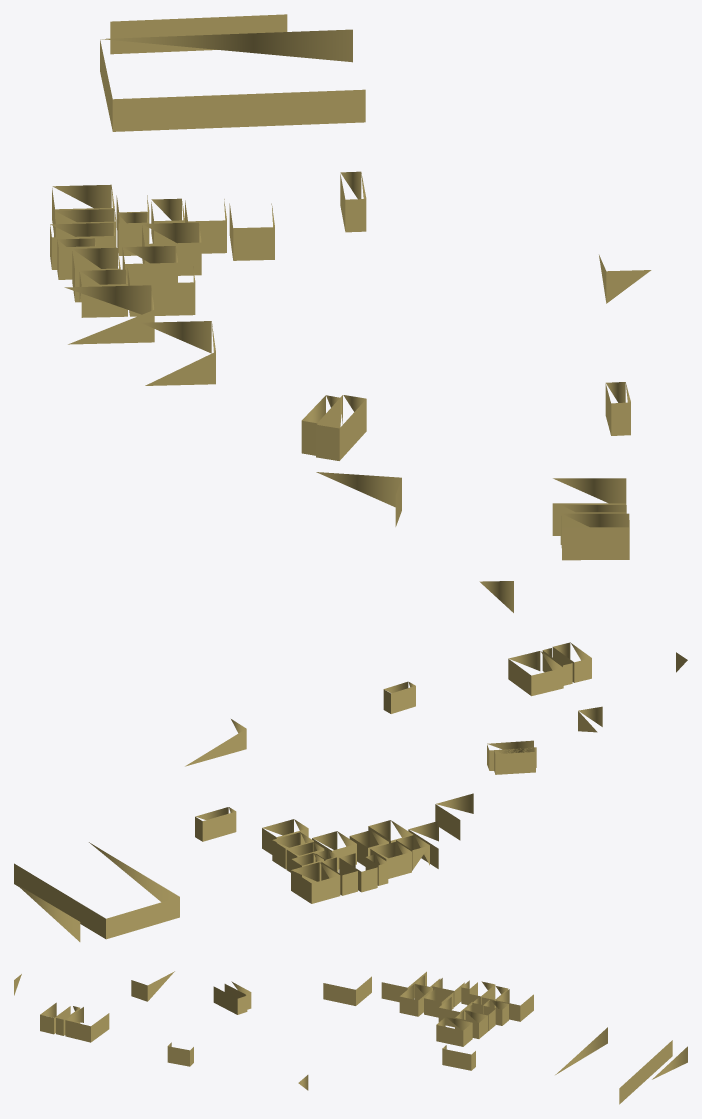
3 views of the same model, one above another, from view 1: azimuth 30°, elevation 25°; view 2: azimuth 150°, elevation 25°; view 3: azimuth 270°, elevation 25° (orthographic). The views are drawn at different scales.
Size of the model in its own units: 121 by 7.5 by 280.
